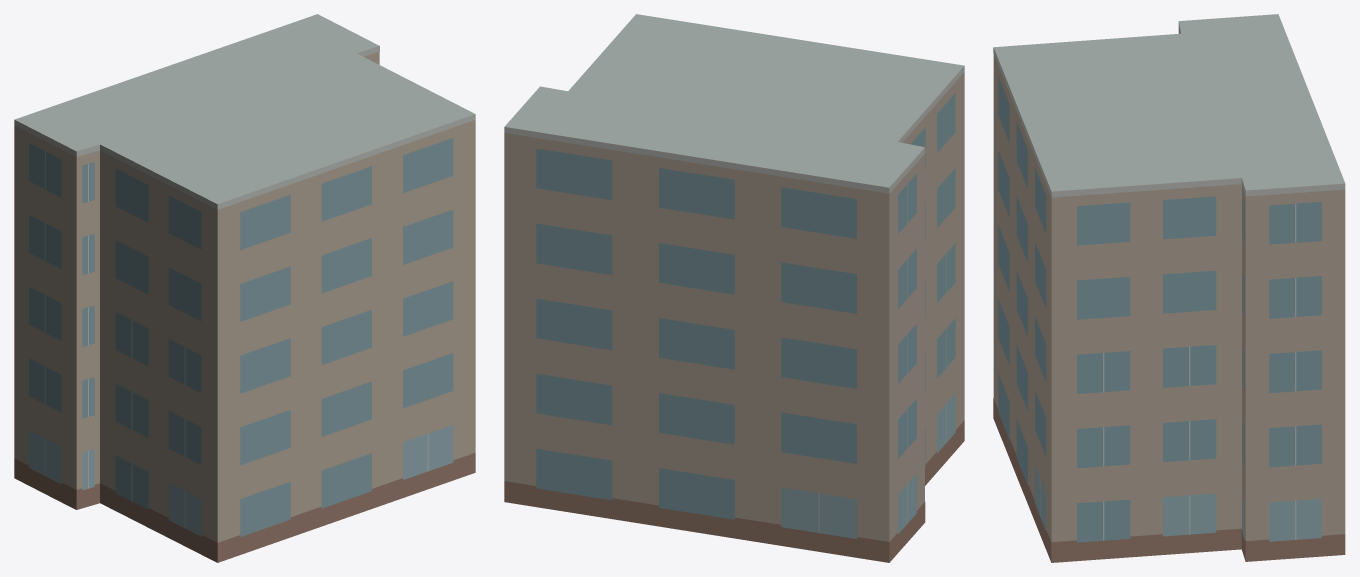
The model's file is survey-upis-32926948.glb.
The picture shows the model from 3 angles, left to right: view 1: azimuth 30°, elevation 25°; view 2: azimuth 150°, elevation 25°; view 3: azimuth 270°, elevation 25°; orthographic projection. The views are drawn at different scales.
Visible parts, largest first — view 1: survey-upis-32926948.tmp; view 2: survey-upis-32926948.tmp; view 3: survey-upis-32926948.tmp.
Part boxes in pixels (<box>): survey-upis-32926948.tmp: <box>14,14,475,562</box>; survey-upis-32926948.tmp: <box>504,14,964,562</box>; survey-upis-32926948.tmp: <box>993,14,1345,562</box>.
Size of the model in its own units: 15.66 by 15.25 by 13.11.
